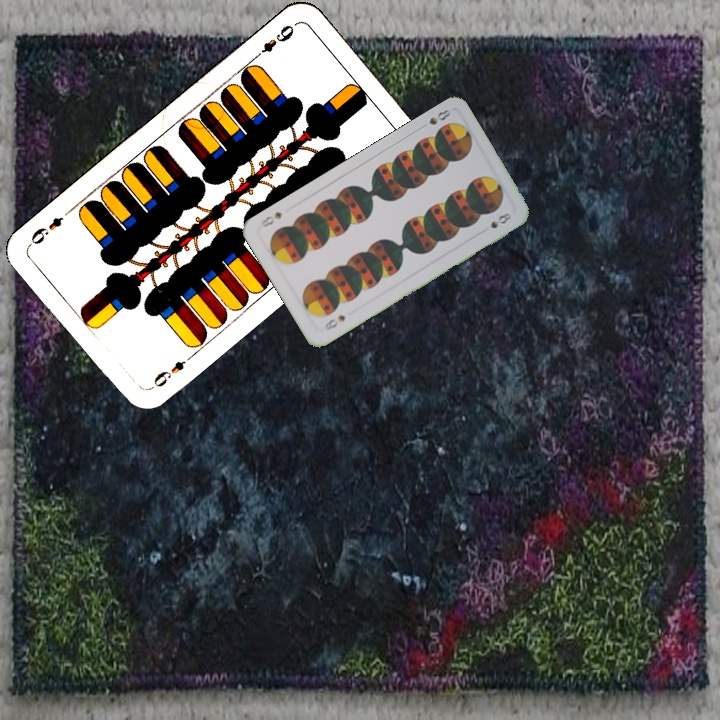E9: (249, 19, 298, 63), (147, 350, 197, 392)
S8: (416, 103, 453, 132), (321, 311, 348, 333)
